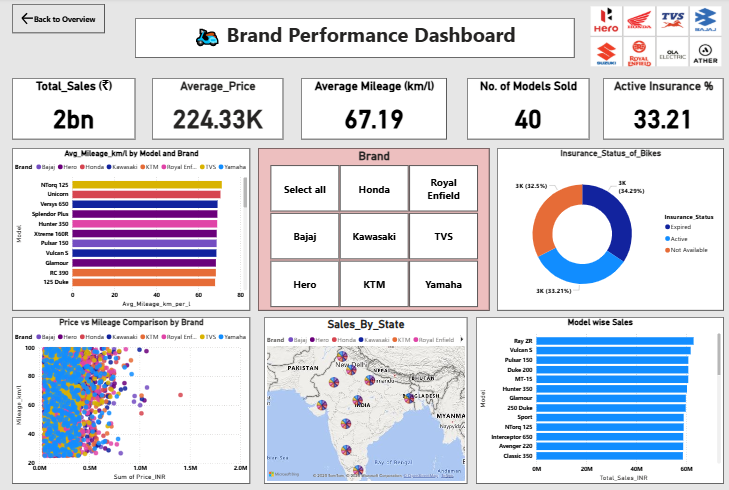

The dashboard page shown, as its layout file describes it:
{"tool":"powerbi","page":{"name":"Brand Dashboard","canvas":[1560,1050],"ordinal":1},"visuals":[{"type":"slicer","title":"Brand","fields":{"Values":["bike_sales_india.Brand"]},"box":[551.1,319.6,494.1,347.2],"z":0},{"type":"textbox","box":[287.5,42.5,937.5,85],"z":1000},{"type":"card","title":"Total_Sales (₹)","fields":{"Values":["bike_sales_india.Total_Sales_INR"]},"box":[25.9,171,262.6,131.3],"z":2000},{"type":"card","title":"Average_Price","fields":{"Values":["bike_sales_india.Avg_Price_INR"]},"box":[324.8,171,279.9,131.3],"z":3000},{"type":"card","title":"No. of Models Sold","fields":{"Values":["bike_sales_india.Total_Model_Sold"]},"box":[996.8,171,260.9,131.3],"z":4000},{"type":"card","title":"Average Mileage (km/l)","fields":{"Values":["bike_sales_india.Avg_Mileage_km_per_l"]},"box":[642.7,171,311,131.3],"z":5000},{"type":"card","title":"Active Insurance %","fields":{"Values":["bike_sales_india.Active_Insurance_Percent"]},"box":[1287,171,257.4,131.3],"z":6000},{"type":"barChart","title":"Avg_Mileage_km/l by Model and Brand","fields":{"Category":["bike_sales_india.Model"],"Y":["bike_sales_india.Avg_Mileage_km_per_l"],"Series":["bike_sales_india.Brand"]},"box":[25.9,319.6,507.9,347.2],"z":7000},{"type":"barChart","title":"Model wise Sales","fields":{"Category":["bike_sales_india.Model"],"Y":["bike_sales_india.Total_Sales_INR"]},"box":[1015.8,680.7,528.6,355.9],"z":8000},{"type":"donutChart","title":"Insurance_Status_of_Bikes","fields":{"Y":["bike_sales_india.Total_Bikes"],"Category":["bike_sales_india.Insurance_Status"]},"box":[1060.7,319.6,483.7,347.2],"z":9000},{"type":"scatterChart","title":"Price vs Mileage Comparison by Brand","fields":{"X":["Sum(bike_sales_india.Price_INR)"],"Y":["bike_sales_india.Mileage_km/l"],"Series":["bike_sales_india.Brand"]},"box":[25.9,680.7,507.9,355.9],"z":10000},{"type":"actionButton","box":[26,12,198,62],"z":11000},{"type":"map","title":"Sales_By_State","fields":{"Category":["bike_sales_india.State"],"Size":["bike_sales_india.Sales_By_State"],"Series":["bike_sales_india.Brand"]},"box":[563.2,680.7,433.6,355.9],"z":12000},{"type":"image","box":[1254.2,12.1,290.2,138.2],"z":13000}]}

Visuals, with their boxes in screenshot pixels (x1, y1, x2, y2), scaled from the page's 1560x1050 canvas onto the 729x490 screenshot:
"Brand" slicer: 258 149 488 311
textbox: 134 20 572 60
"Total_Sales (₹)" card: 12 80 135 141
"Average_Price" card: 152 80 283 141
"No. of Models Sold" card: 466 80 588 141
"Average Mileage (km/l)" card: 300 80 446 141
"Active Insurance %" card: 601 80 722 141
"Avg_Mileage_km/l by Model and Brand" barChart: 12 149 249 311
"Model wise Sales" barChart: 475 318 722 484
"Insurance_Status_of_Bikes" donutChart: 496 149 722 311
"Price vs Mileage Comparison by Brand" scatterChart: 12 318 249 484
actionButton: 12 6 105 35
"Sales_By_State" map: 263 318 466 484
image: 586 6 722 70
